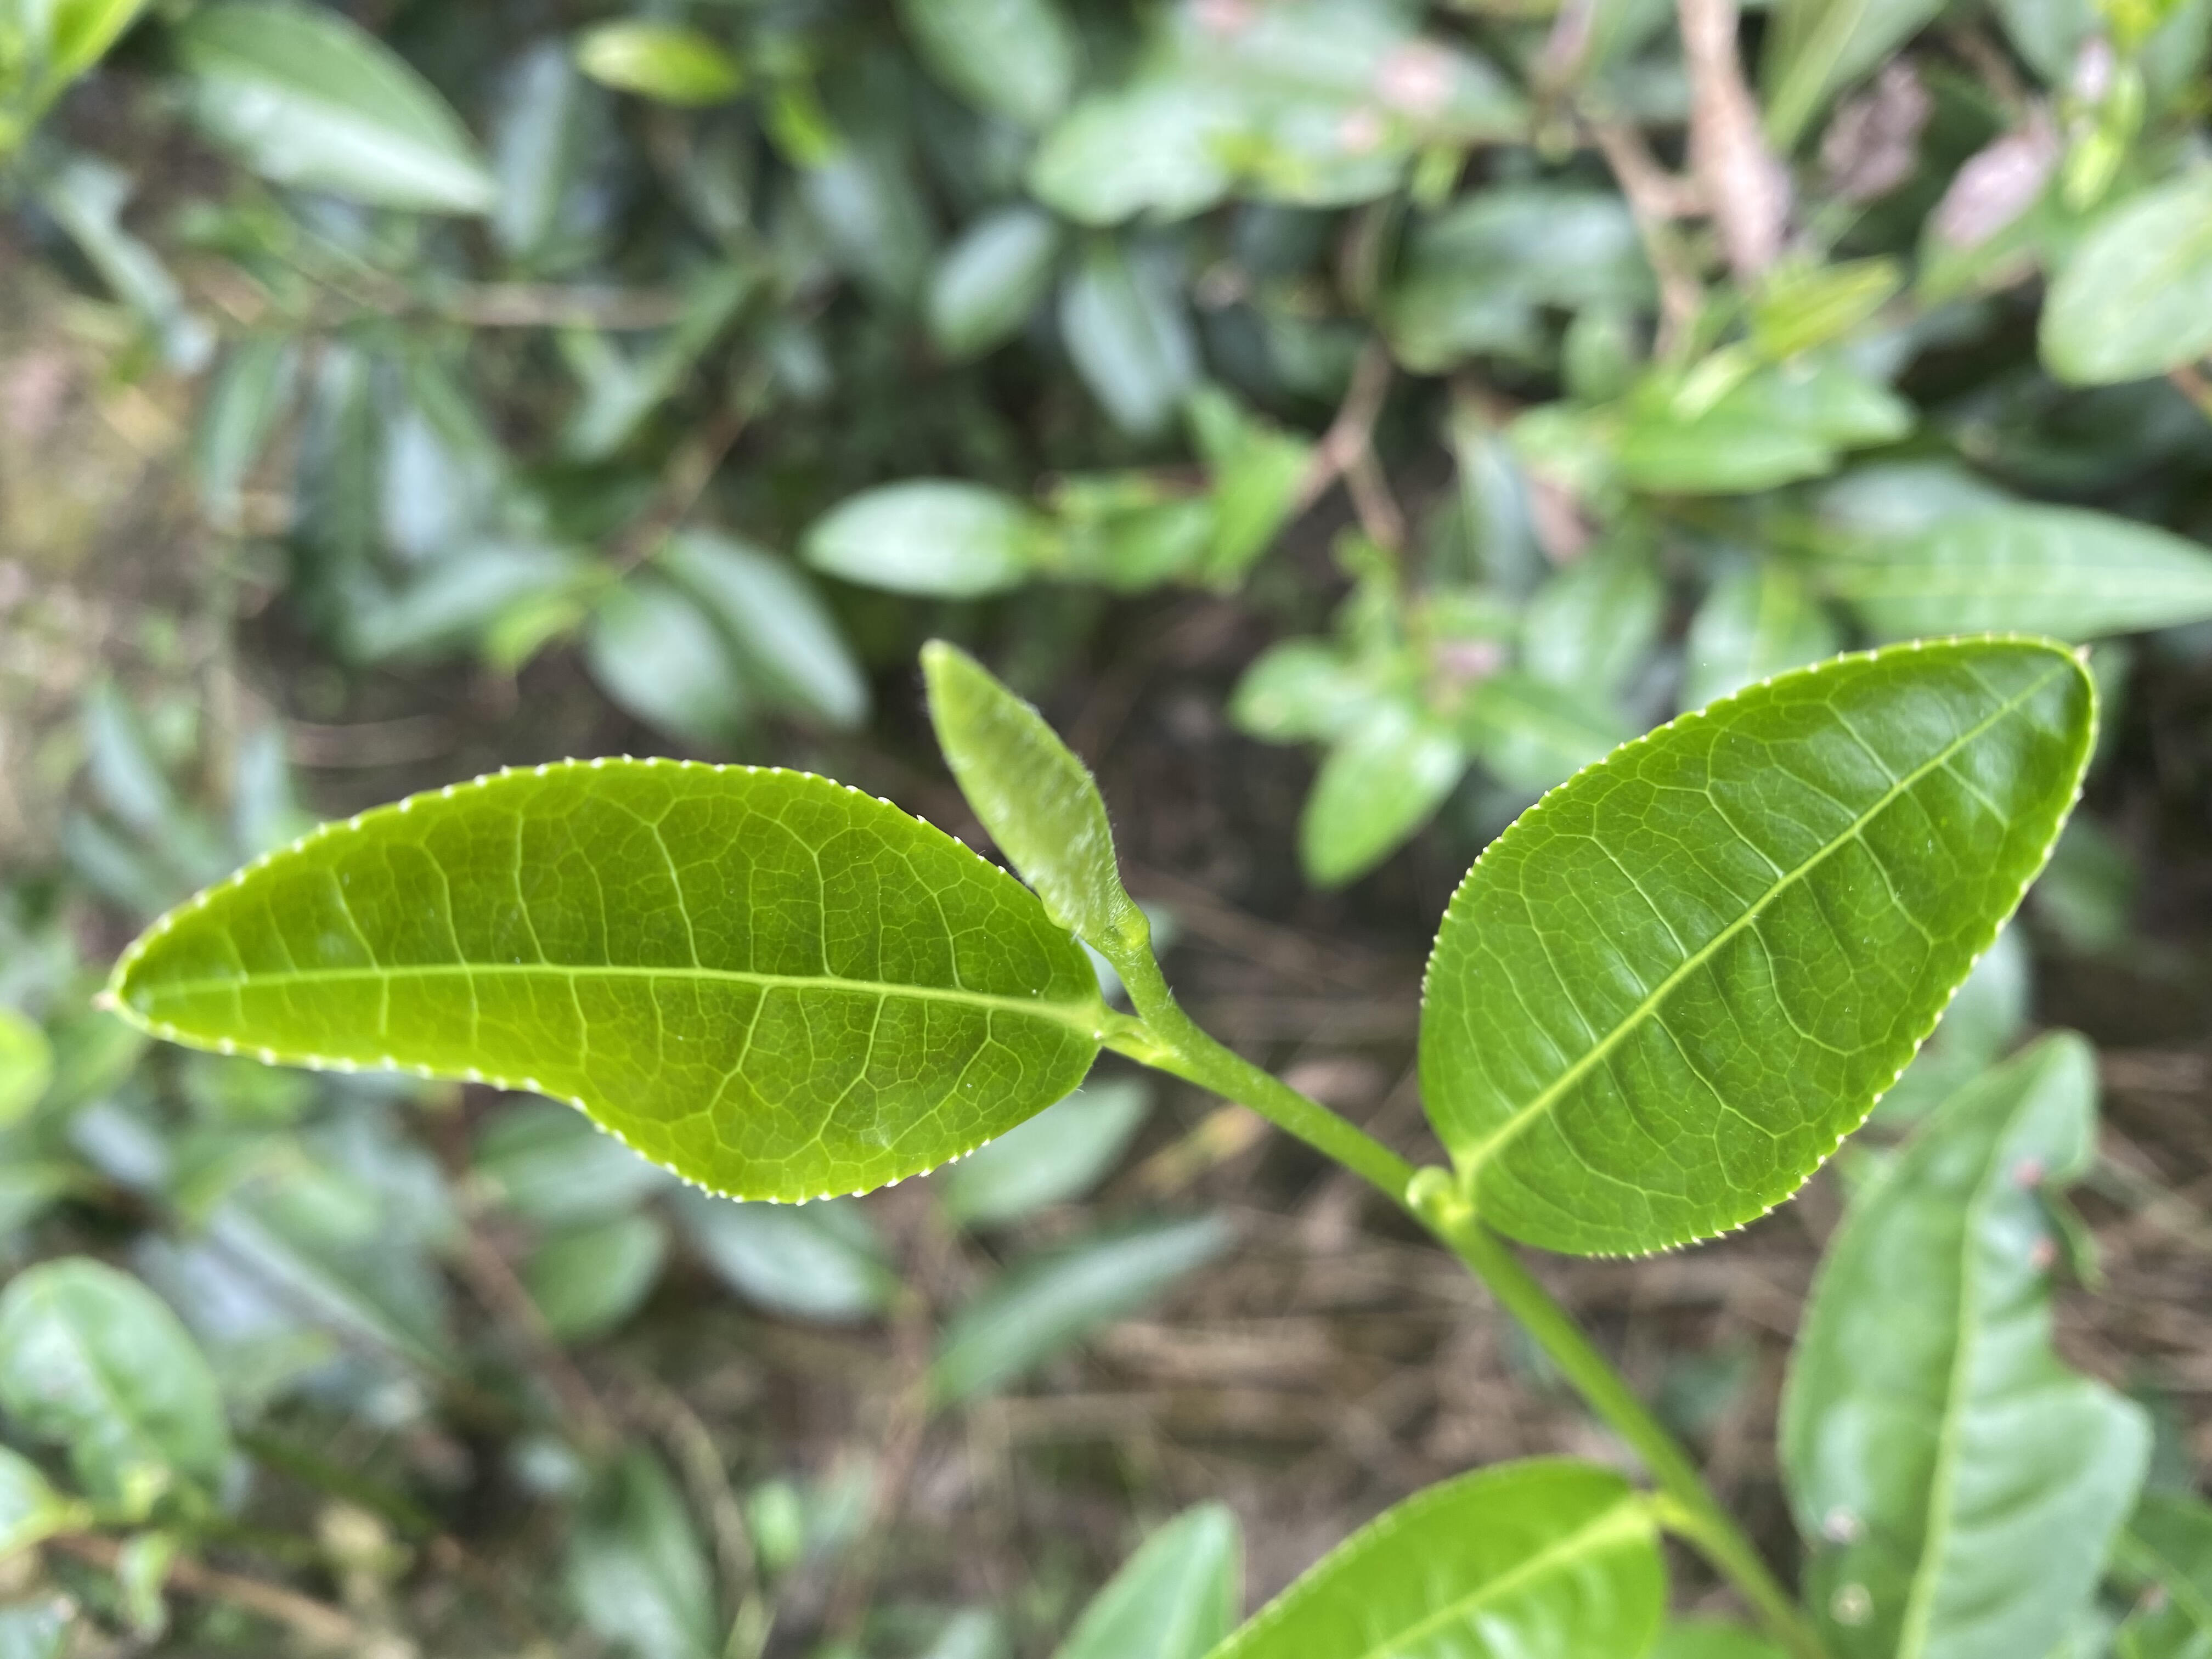healthy: (113, 755, 1101, 1206), (1414, 633, 2095, 1267)
